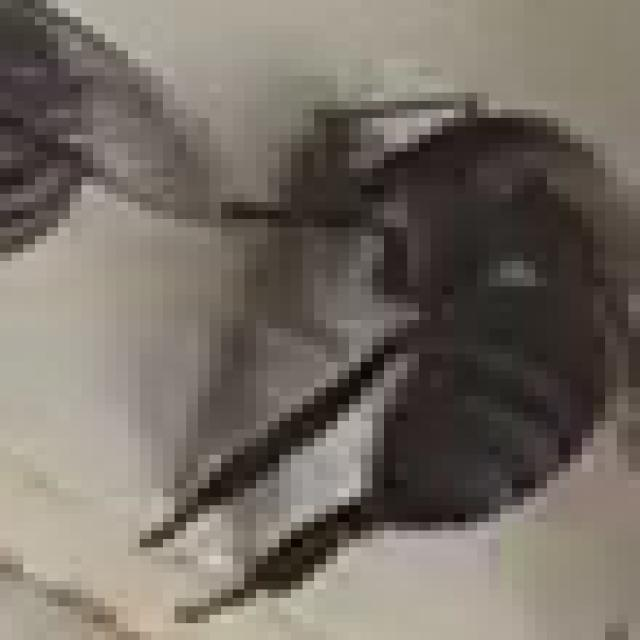honeybee: (163, 93, 640, 606)
